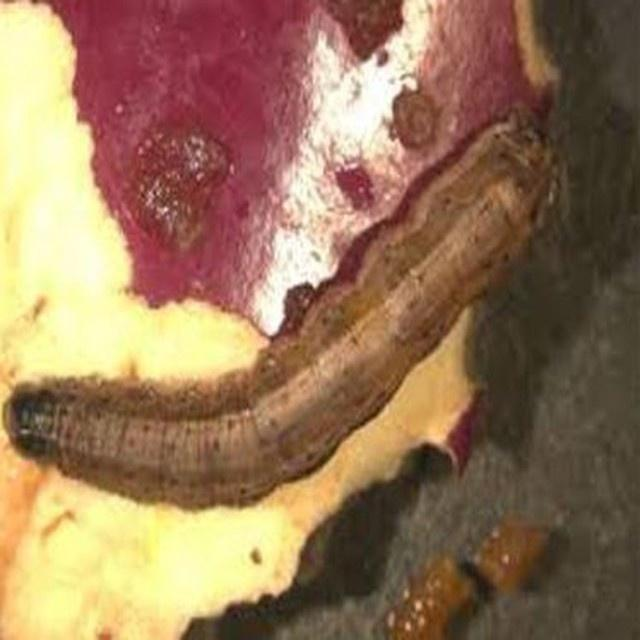gusano_cogollero: (4, 117, 548, 510)
